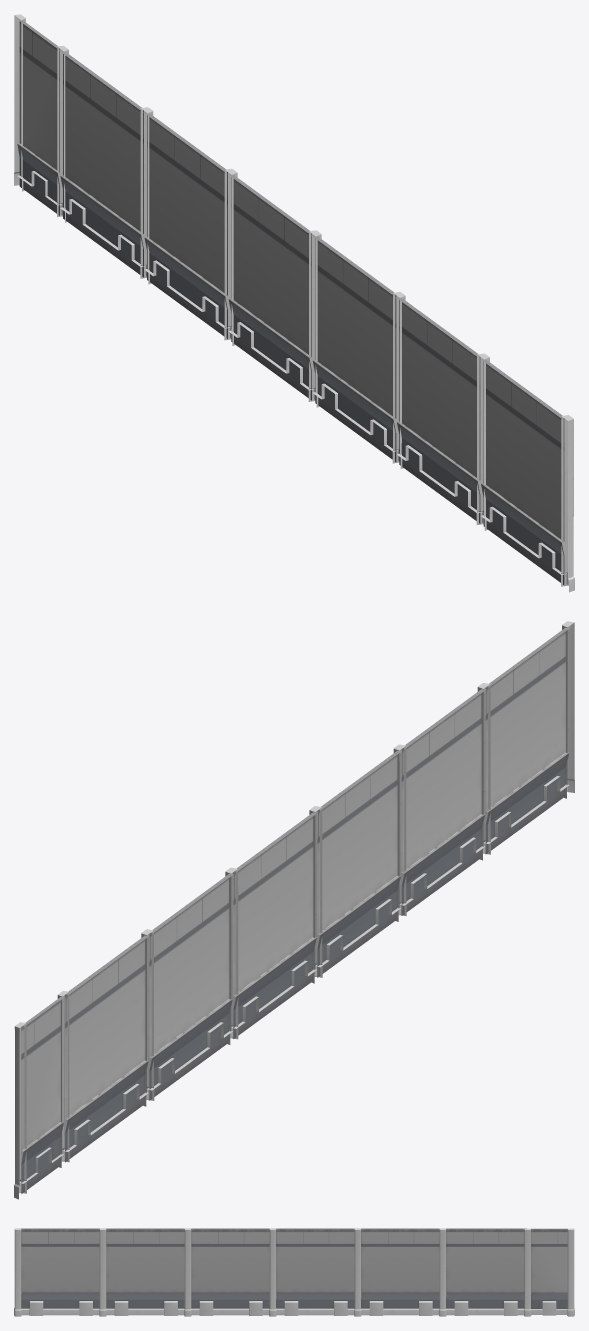
Rendered from Pfb_JALB_WallPart2_Line__14.fbx.
3 renders of one model, top to bottom at view 1: azimuth 30°, elevation 25°; view 2: azimuth 150°, elevation 25°; view 3: azimuth 270°, elevation 25°, orthographic. The views are drawn at different scales.
Parts seen in each view (by area): view 1: MAT_JLABWall; view 2: MAT_JLABWall; view 3: MAT_JLABWall.
Part boxes in pixels (box(x1,y1,x2,y2)): MAT_JLABWall: box(14, 14, 574, 592); MAT_JLABWall: box(14, 621, 574, 1199); MAT_JLABWall: box(14, 1228, 574, 1316).
Size of the model in its own units: 0.2509 by 4.04 by 23.77.
Materials: 1 (1 with a texture image).
